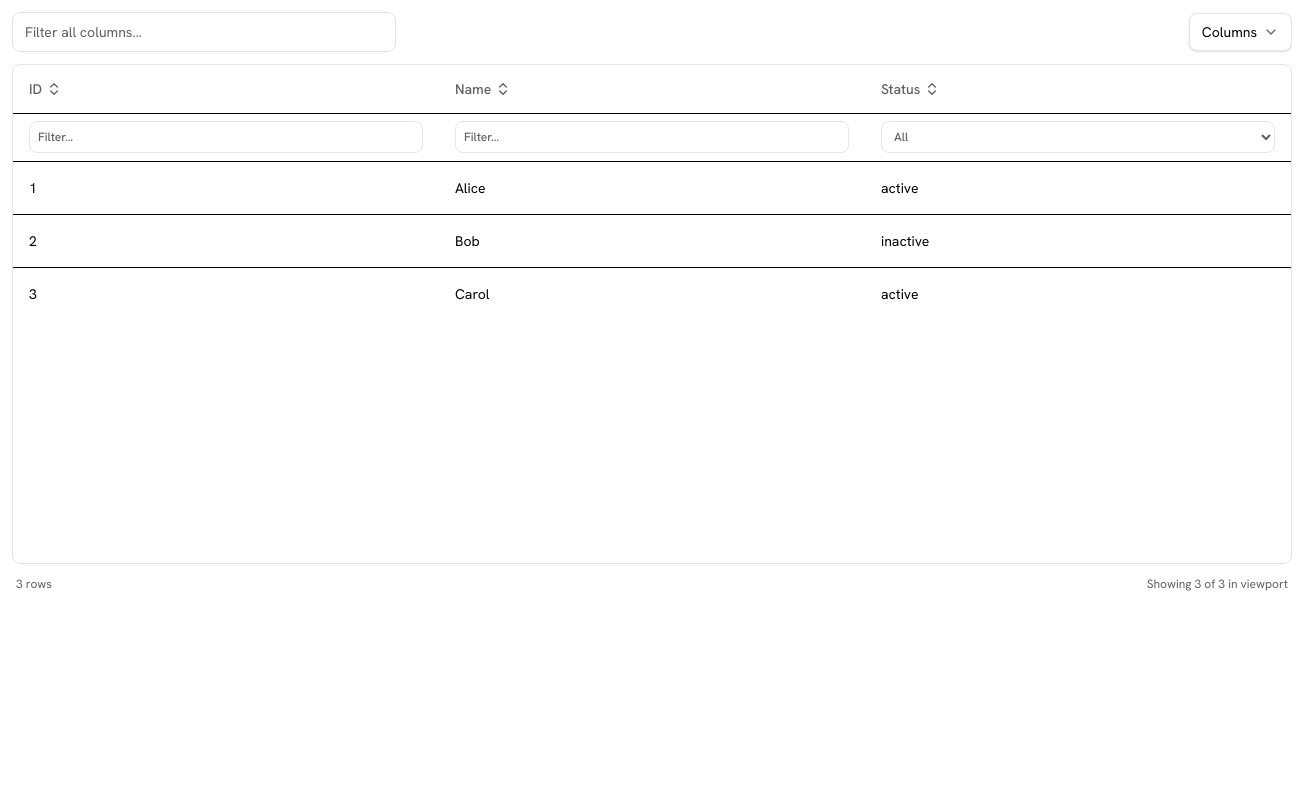
Test case: DataTable per-column filters (Epic 23) › selecting a Status filter option narrows the row count
Check: the text "3 rows" is shown, box [16,576,52,592]
Select "Inactive" in the dropdown named "Filter Status". click: (1078, 137)
box: [881,121,1275,153]
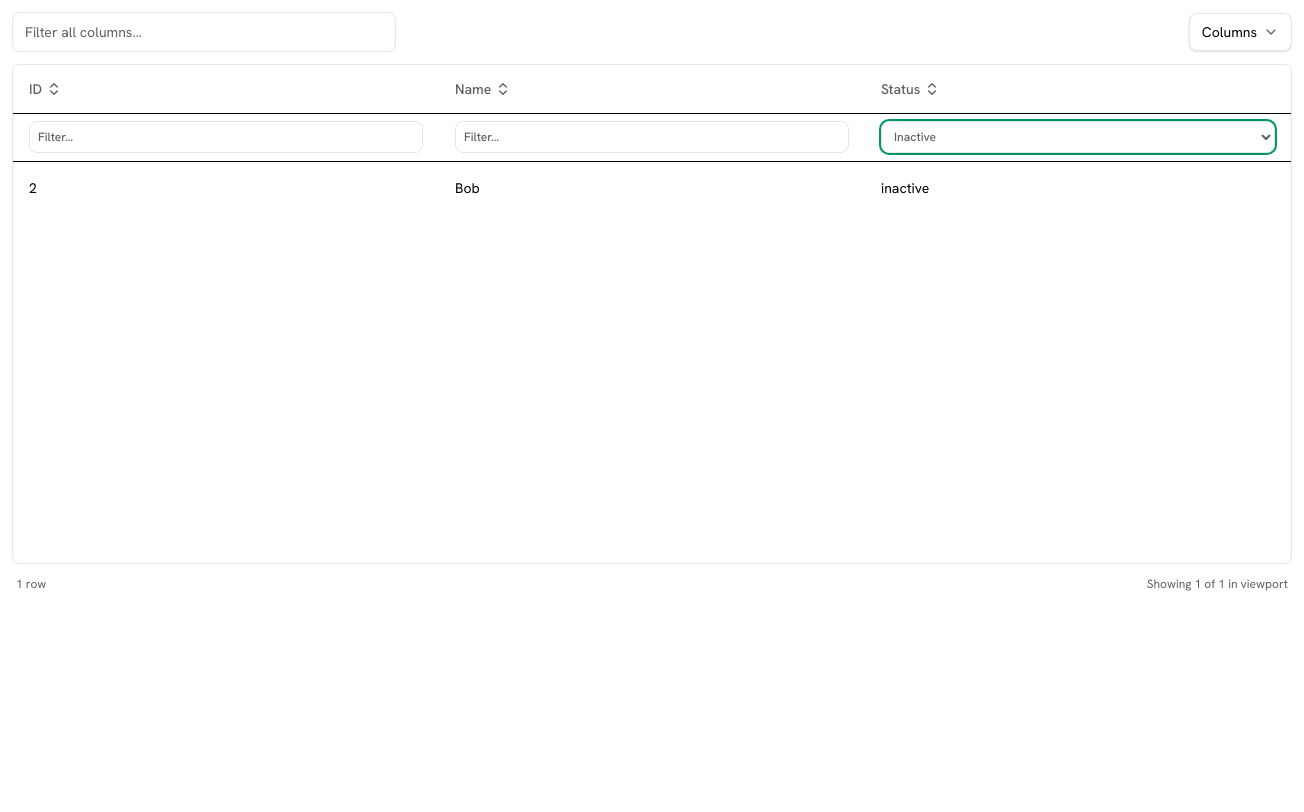
Check: the text "1 row" is shown, box [16,576,46,592]
